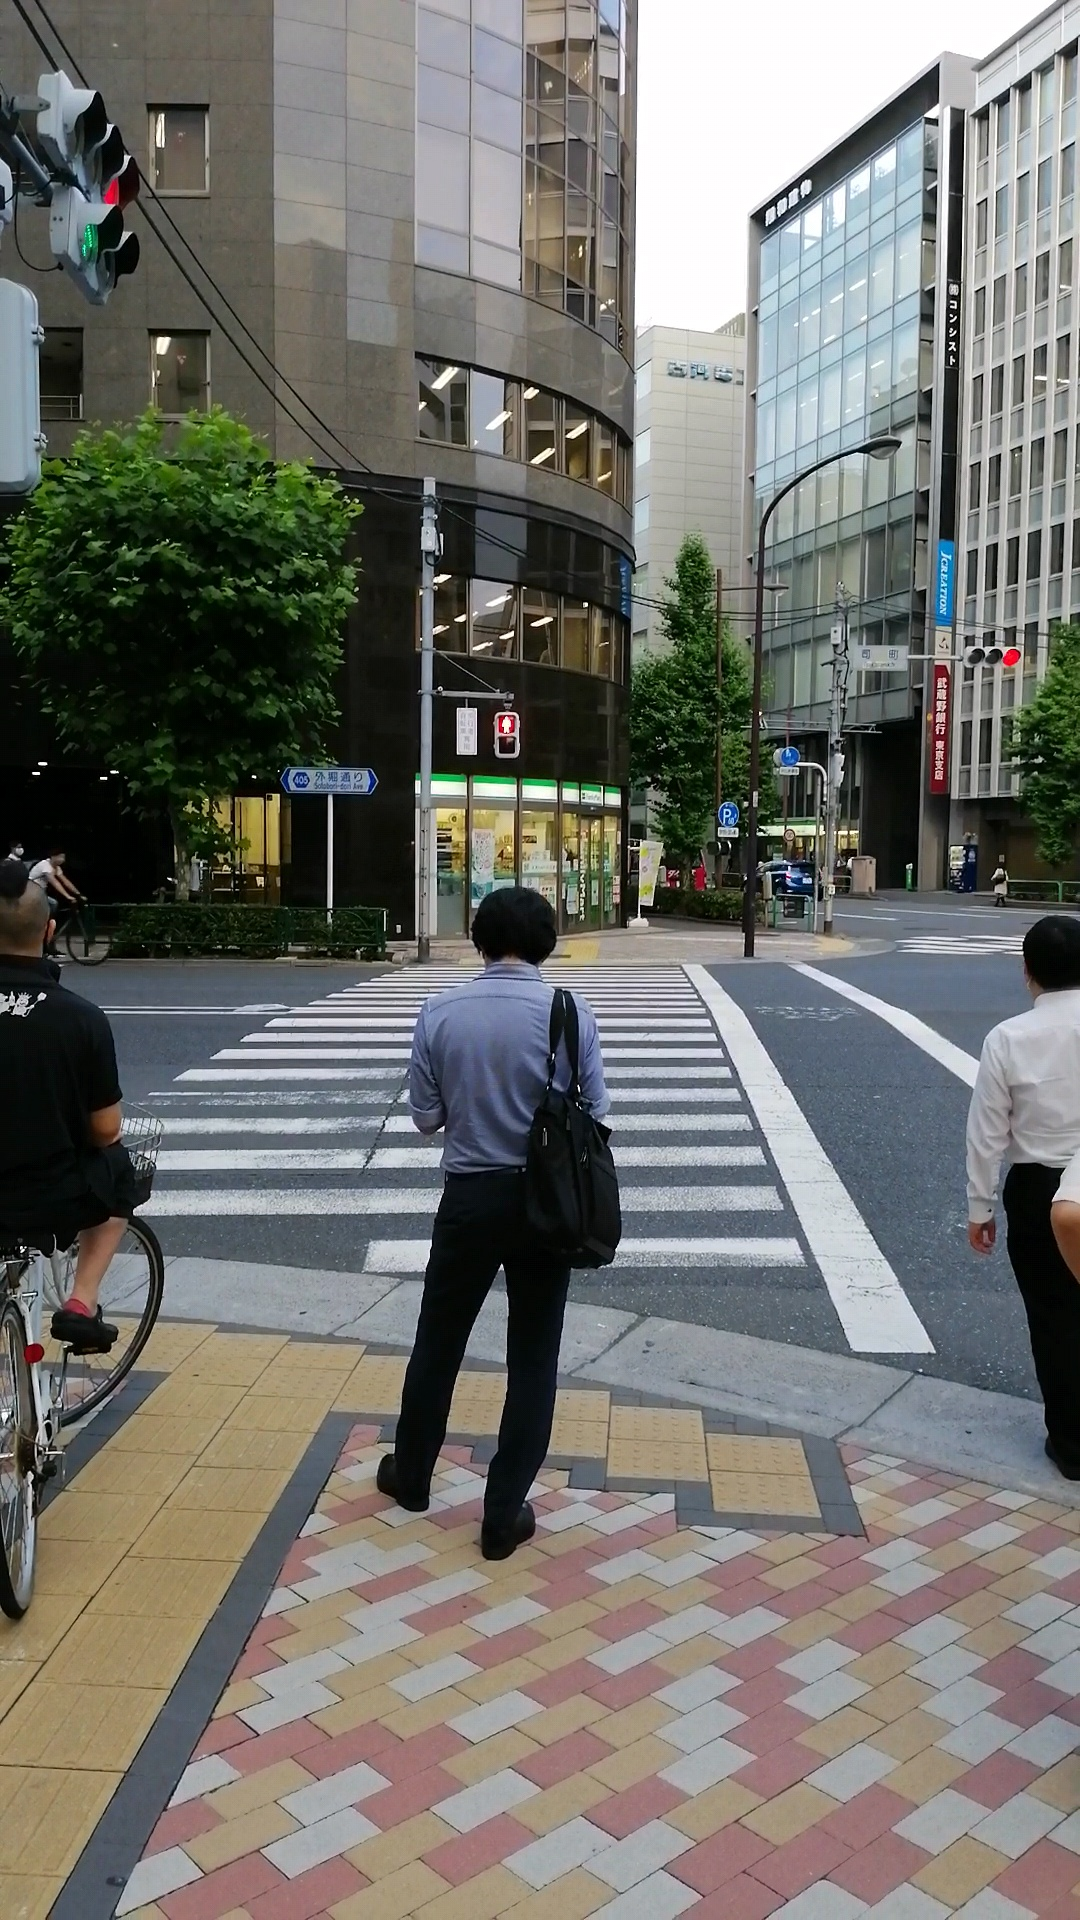red: (491, 711, 520, 757)
